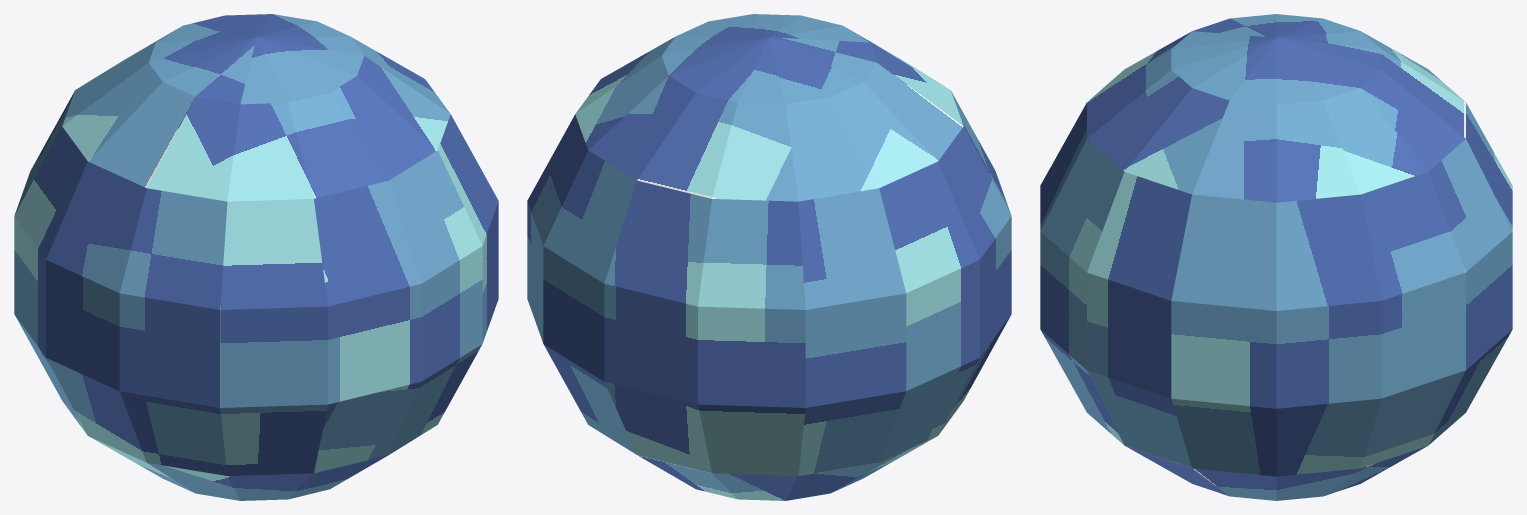
The model's file is marble.fbx.
3 renders of one model, left to right at view 1: azimuth 30°, elevation 25°; view 2: azimuth 150°, elevation 25°; view 3: azimuth 270°, elevation 25°, orthographic.
Visible parts, largest first — view 1: sphere; view 2: sphere; view 3: sphere.
Boxes of the visible parts, box(x1,y1,x2,y2) form: sphere: box(14, 14, 498, 500); sphere: box(527, 14, 1011, 500); sphere: box(1040, 14, 1512, 500).
Size of the model in its own units: 18.75 by 18.75 by 18.28.
1 material, 1 textured.
